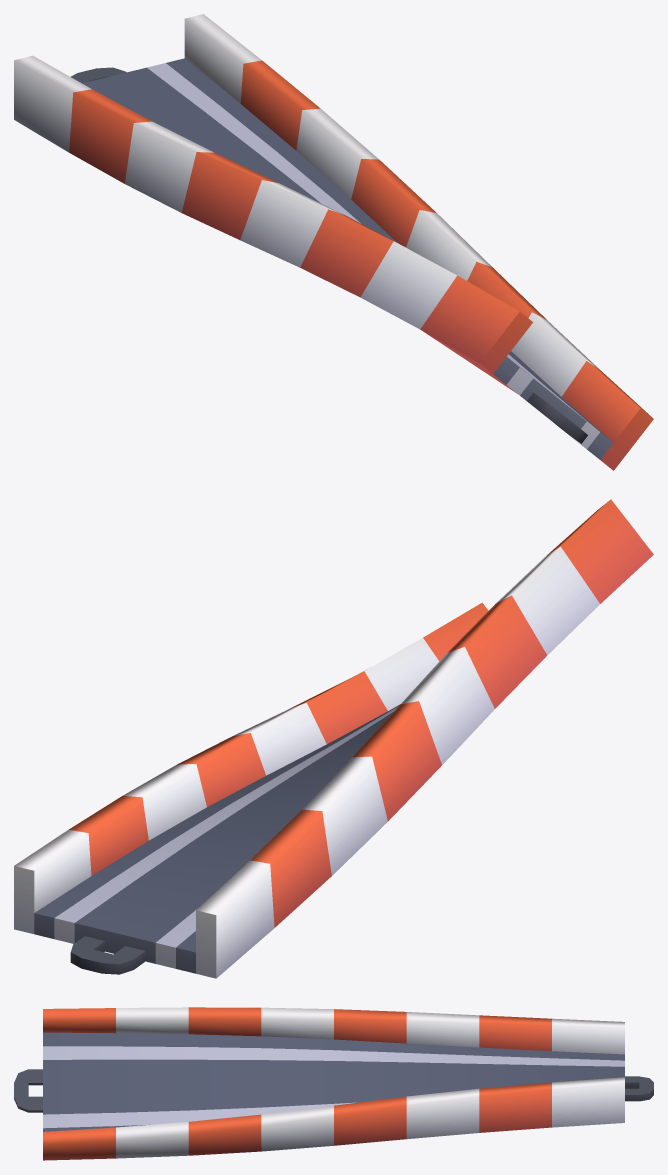
Rendered from track-road-narrow-straight-skew-left.glb.
3 views of the same model, one above another, from view 1: azimuth 30°, elevation 25°; view 2: azimuth 150°, elevation 25°; view 3: azimuth 270°, elevation 25° (orthographic). The views are drawn at different scales.
Visible parts, largest first — view 1: track-road-narrow-straight-skew-left; view 2: track-road-narrow-straight-skew-left; view 3: track-road-narrow-straight-skew-left.
Part boxes in pixels (<box>): track-road-narrow-straight-skew-left: <box>14,14,653,470</box>; track-road-narrow-straight-skew-left: <box>14,499,653,978</box>; track-road-narrow-straight-skew-left: <box>14,1007,653,1160</box>.
Size of the model in its own units: 1.08 by 0.919 by 4.4.
1 material, 1 textured.
